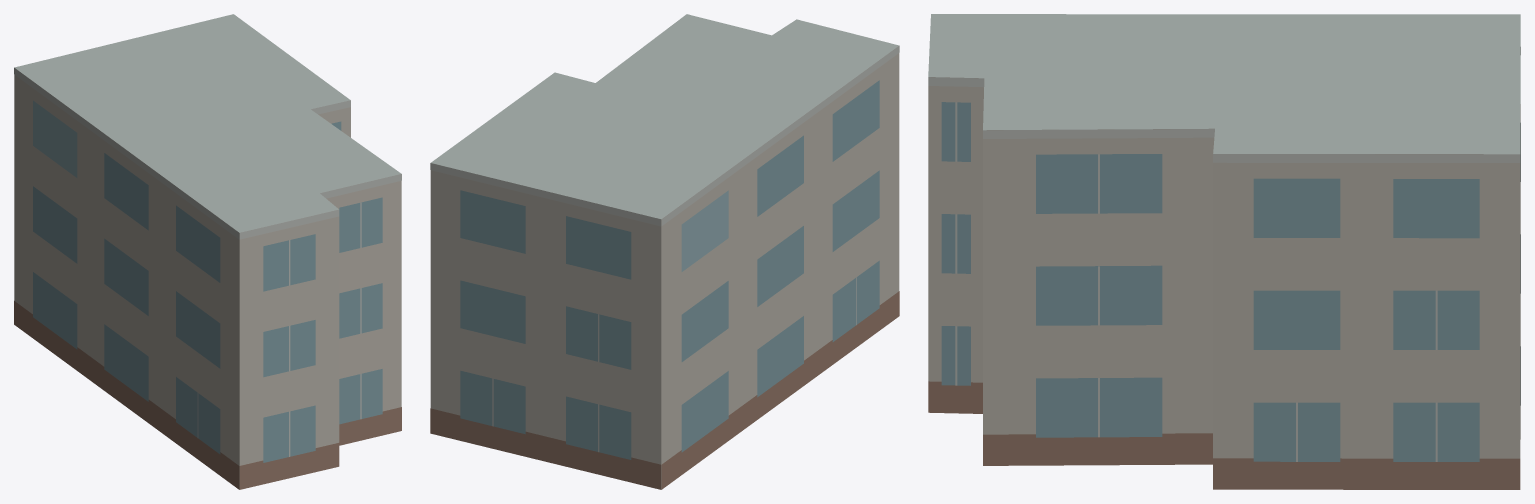
Rendered from survey-upis-32822188.glb.
3 renders of one model, left to right at view 1: azimuth 30°, elevation 25°; view 2: azimuth 150°, elevation 25°; view 3: azimuth 270°, elevation 25°, orthographic. The views are drawn at different scales.
Visible parts, largest first — view 1: survey-upis-32822188.tmp; view 2: survey-upis-32822188.tmp; view 3: survey-upis-32822188.tmp.
Part boxes in pixels (x1=…): survey-upis-32822188.tmp: x1=14, y1=14, x2=401, y2=489; survey-upis-32822188.tmp: x1=430, y1=14, x2=899, y2=489; survey-upis-32822188.tmp: x1=928, y1=14, x2=1520, y2=489.
Bounding box in the file's own units: 8.2 × 9.15 × 14.65.
